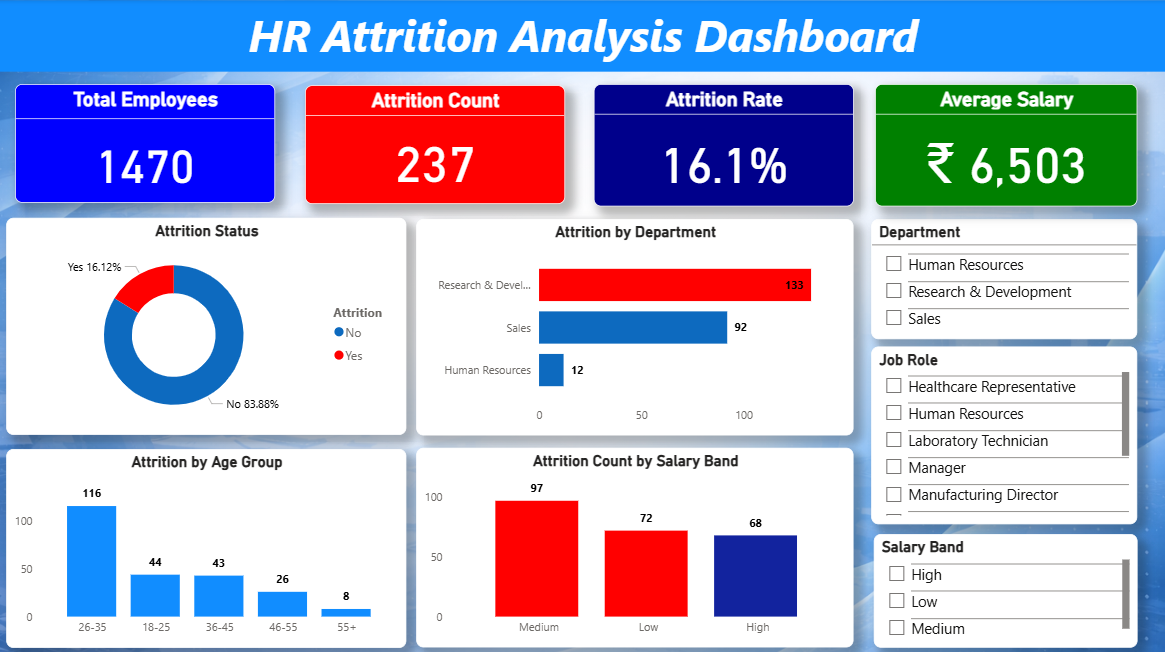

The dashboard page shown, as its layout file describes it:
{"tool":"powerbi","page":{"name":"Page 1","canvas":[1280,720],"ordinal":0},"visuals":[{"type":"card","title":"Total Employees","fields":{"Values":["HR_Analytics.Total Employees"]},"box":[16.5,93.3,285.4,130.4],"z":0},{"type":"card","title":"Attrition Count","fields":{"Values":["HR_Analytics.Attrition Count"]},"box":[334.8,94.7,285.4,130.4],"z":1000},{"type":"card","title":"Attrition Rate","fields":{"Values":["HR_Analytics.Attrition Rate %"]},"box":[651.8,93.3,285.4,134.5],"z":2000},{"type":"donutChart","title":"Attrition Status","fields":{"Category":["HR_Analytics.Attrition"],"Y":["Sum(HR_Analytics.EmployeeCount)"]},"box":[6.9,240.1,439.1,238.8],"z":3000},{"type":"textbox","box":[0,1.4,1280.3,78.2],"z":4000},{"type":"barChart","title":"Attrition by Department","fields":{"Category":["HR_Analytics.Department"],"Y":["HR_Analytics.Attrition Count"]},"box":[456.9,241.5,480.3,237.4],"z":5000},{"type":"columnChart","title":"Attrition by Age Group","fields":{"Category":["HR_Analytics.Age Group"],"Y":["HR_Analytics.Attrition Count"]},"box":[6.9,494,439.1,218.2],"z":6000},{"type":"columnChart","fields":{"Category":["HR_Analytics.Salary Band"],"Y":["HR_Analytics.Attrition Count"]},"box":[456.9,492.6,480.3,219.6],"z":7000},{"type":"slicer","title":"Department","fields":{"Values":["HR_Analytics.Department"]},"box":[956.4,241.5,292.3,131.7],"z":8000},{"type":"slicer","title":"Job Role","fields":{"Values":["HR_Analytics.JobRole"]},"box":[956.4,381.5,292.3,194.9],"z":9000},{"type":"slicer","title":"Salary Band","fields":{"Values":["HR_Analytics.Salary Band"]},"box":[959.2,587.3,289.5,124.9],"z":10000},{"type":"card","title":"Average Salary ","fields":{"Values":["HR_Analytics.Average Salary"]},"box":[960.6,93.3,288.2,134.5],"z":11000}]}

Visuals, with their boxes in screenshot pixels (x1, y1, x2, y2), scaled from the page's 1280x720 canvas onto the 1165x652 screenshot:
"Total Employees" card: (15, 84, 275, 203)
"Attrition Count" card: (305, 86, 564, 204)
"Attrition Rate" card: (593, 84, 853, 206)
"Attrition Status" donutChart: (6, 217, 406, 434)
textbox: (0, 1, 1164, 72)
"Attrition by Department" barChart: (416, 219, 853, 434)
"Attrition by Age Group" columnChart: (6, 447, 406, 645)
columnChart - HR_Analytics.Salary Band x HR_Analytics.Attrition Count: (416, 446, 853, 645)
"Department" slicer: (870, 219, 1137, 338)
"Job Role" slicer: (870, 345, 1137, 522)
"Salary Band" slicer: (873, 532, 1137, 645)
"Average Salary " card: (874, 84, 1137, 206)
